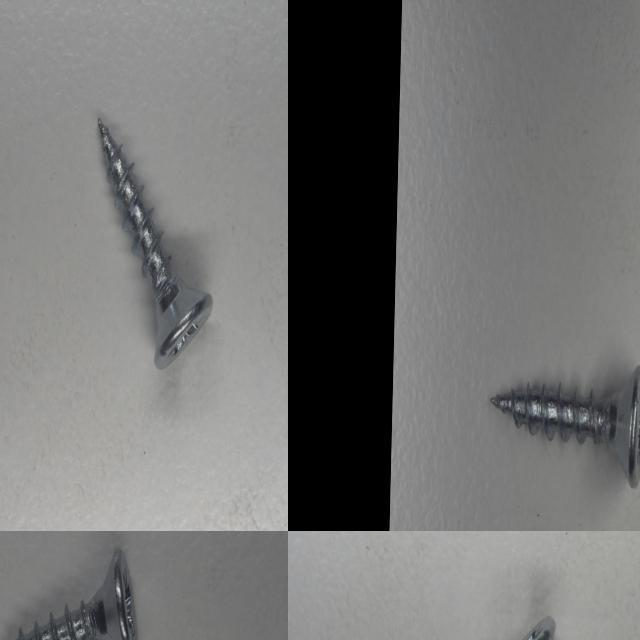Screw: (98, 118, 212, 368), (490, 366, 640, 487), (13, 548, 138, 640)
